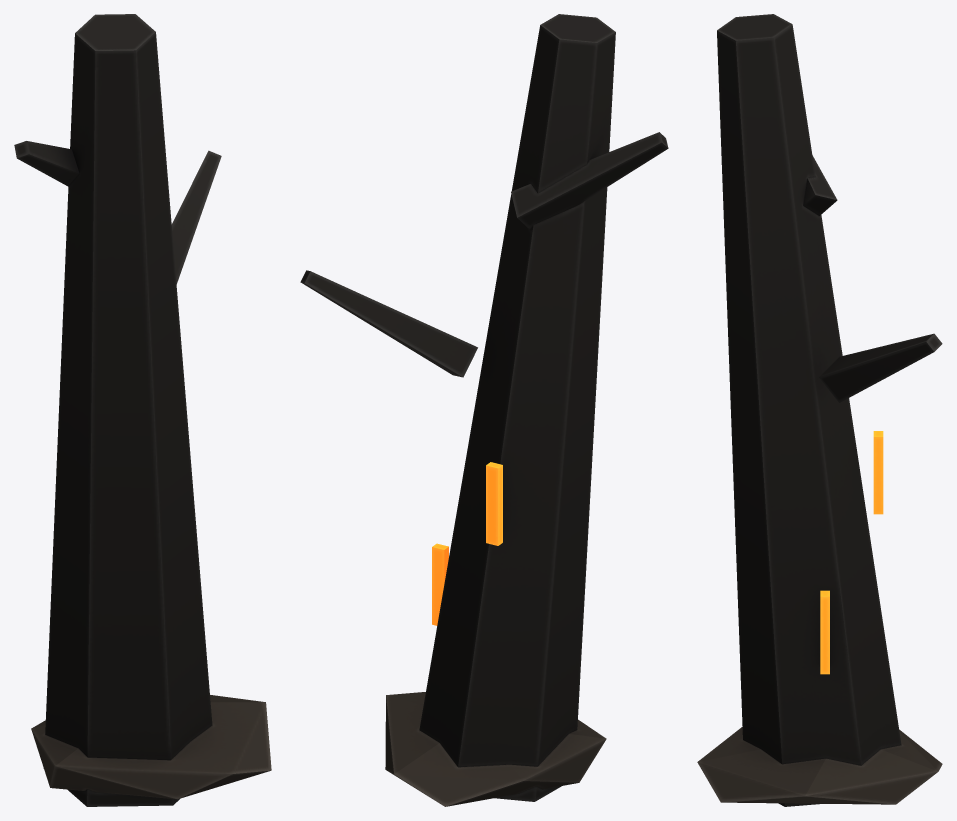
File: obj_tree_charred_a.glb
3 renders of one model, left to right at view 1: azimuth 30°, elevation 25°; view 2: azimuth 150°, elevation 25°; view 3: azimuth 270°, elevation 25°, orthographic. The views are drawn at different scales.
Parts seen in each view (by area): view 1: obj_tree_charred_a; view 2: obj_tree_charred_a; view 3: obj_tree_charred_a.
Part boxes in pixels (x1=…): obj_tree_charred_a: x1=14, y1=14, x2=271, y2=806; obj_tree_charred_a: x1=300, y1=14, x2=668, y2=806; obj_tree_charred_a: x1=697, y1=14, x2=942, y2=806.
Bounding box in the file's own units: 0.6775 × 1.72 × 0.5166.
Materials: 1 (1 with a texture image).
